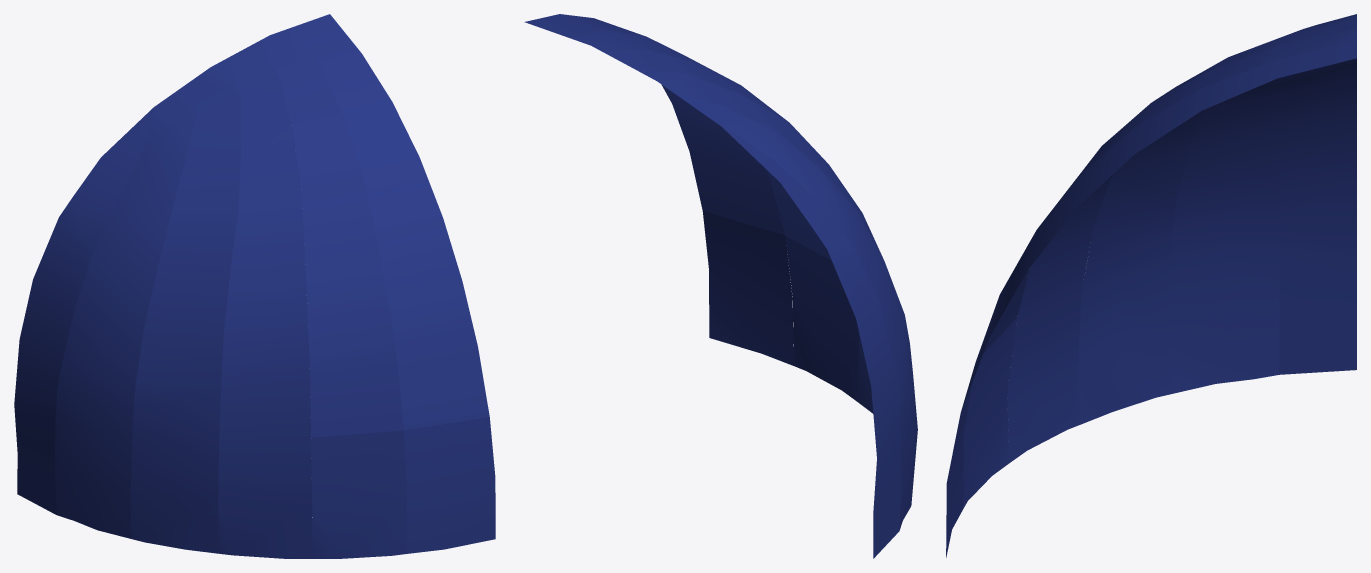
The model's file is Back_left_helm_2_#.fbx.
3 views of the same model, side by side, from view 1: azimuth 30°, elevation 25°; view 2: azimuth 150°, elevation 25°; view 3: azimuth 270°, elevation 25° (orthographic). The views are drawn at different scales.
Parts seen in each view (by area): view 1: Back_left_helm_3_5, Back_left_helm_3_6, Back_left_helm_3_7, Back_left_helm_3_3, Back_left_helm_3_1, Back_left_helm_3_8, Back_left_helm_3_4, Back_left_helm_3_2; view 2: Back_left_helm_3_8, Back_left_helm_3_2, Back_left_helm_3_7, Back_left_helm_3_1, Back_left_helm_3_4, Back_left_helm_3_6, Back_left_helm_3_3, Back_left_helm_3_5; view 3: Back_left_helm_3_7, Back_left_helm_3_8, Back_left_helm_3_6, Back_left_helm_3_5, Back_left_helm_3_1, Back_left_helm_3_4, Back_left_helm_3_3, Back_left_helm_3_2.
Part boxes in pixels (left/top/right/bottom): Back_left_helm_3_5: left=218, top=40, right=312, bottom=558; Back_left_helm_3_6: left=130, top=57, right=241, bottom=553; Back_left_helm_3_7: left=54, top=77, right=196, bottom=538; Back_left_helm_3_3: left=261, top=26, right=403, bottom=437; Back_left_helm_3_1: left=294, top=14, right=489, bottom=430; Back_left_helm_3_8: left=14, top=107, right=153, bottom=514; Back_left_helm_3_4: left=311, top=430, right=406, bottom=558; Back_left_helm_3_2: left=404, top=417, right=495, bottom=553; Back_left_helm_3_8: left=722, top=127, right=901, bottom=558; Back_left_helm_3_2: left=702, top=211, right=793, bottom=365; Back_left_helm_3_7: left=673, top=92, right=917, bottom=529; Back_left_helm_3_1: left=524, top=14, right=784, bottom=235; Back_left_helm_3_4: left=785, top=236, right=859, bottom=401; Back_left_helm_3_6: left=637, top=70, right=883, bottom=259; Back_left_helm_3_3: left=564, top=30, right=831, bottom=260; Back_left_helm_3_5: left=602, top=50, right=873, bottom=413; Back_left_helm_3_7: left=1167, top=14, right=1356, bottom=393; Back_left_helm_3_8: left=1279, top=58, right=1356, bottom=374; Back_left_helm_3_6: left=1078, top=15, right=1356, bottom=424; Back_left_helm_3_5: left=1007, top=20, right=1356, bottom=462; Back_left_helm_3_1: left=961, top=41, right=1356, bottom=410; Back_left_helm_3_4: left=963, top=318, right=1016, bottom=508; Back_left_helm_3_3: left=983, top=28, right=1356, bottom=353; Back_left_helm_3_2: left=946, top=384, right=971, bottom=557.
Size of the model in its own units: 9.23 by 11.28 by 8.39.
